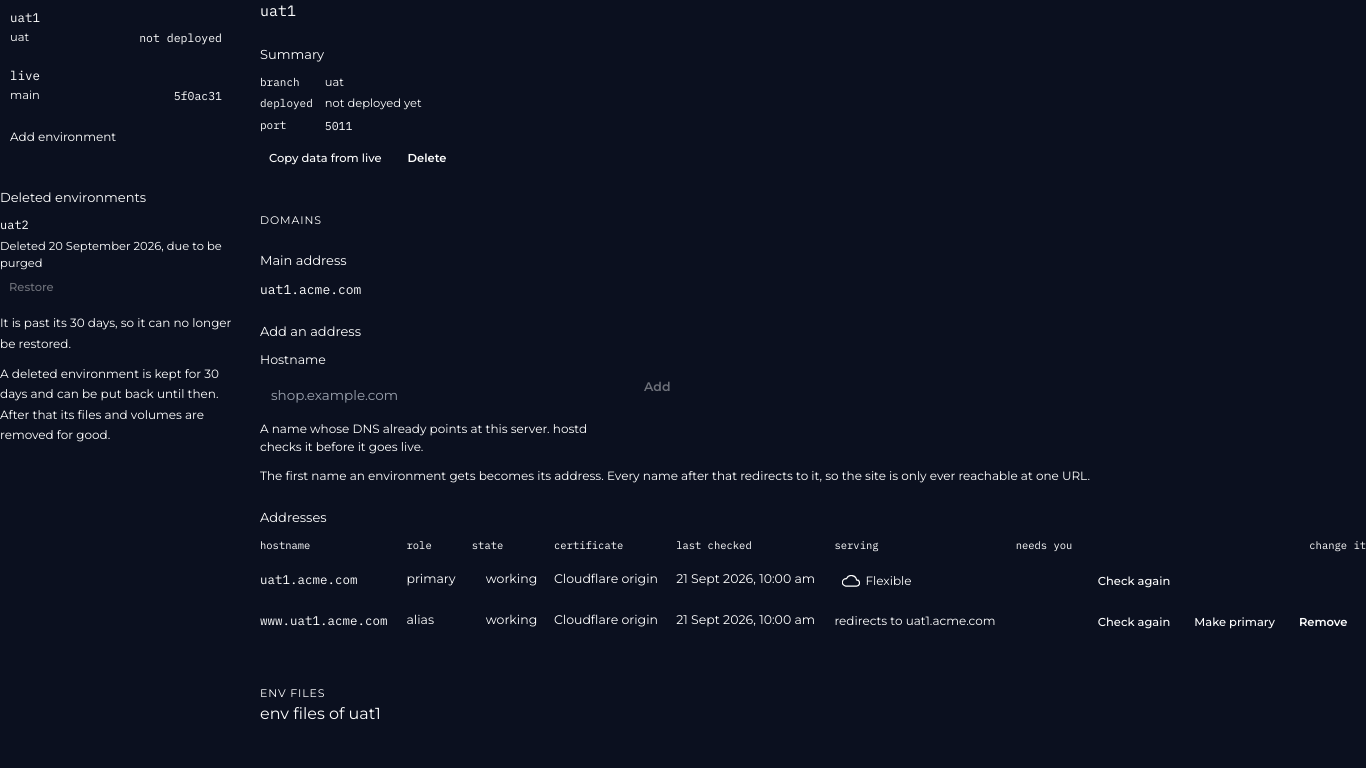
Test: the detail, for the operator › does not carry one environment's domain row state onto the next one shown
Click the 1st button "Check again". click: (1134, 581)
box: [1089,570,1179,593]
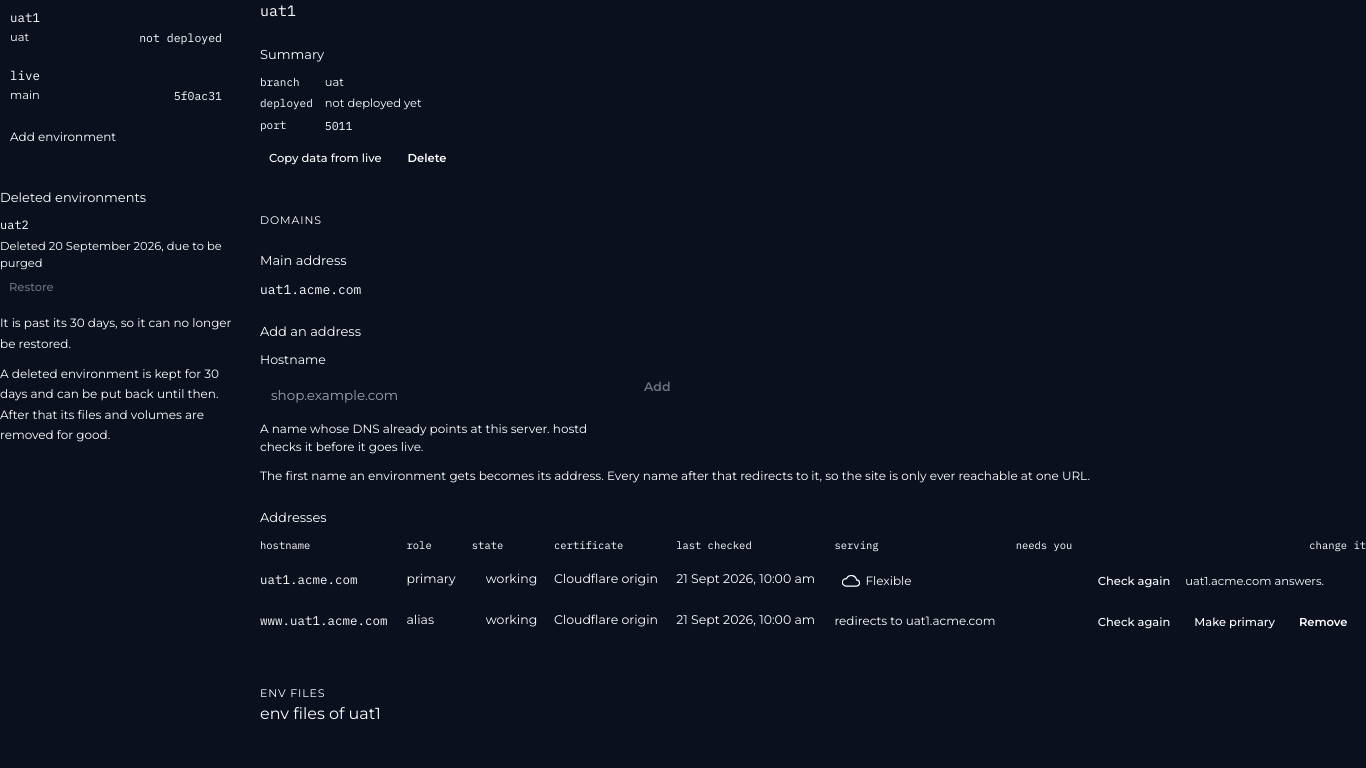
Result: the text "uat1.acme.com answers." is shown at [1185,573,1324,590]
Click the button "Remove". click: (1323, 623)
box: [1290,611,1356,634]
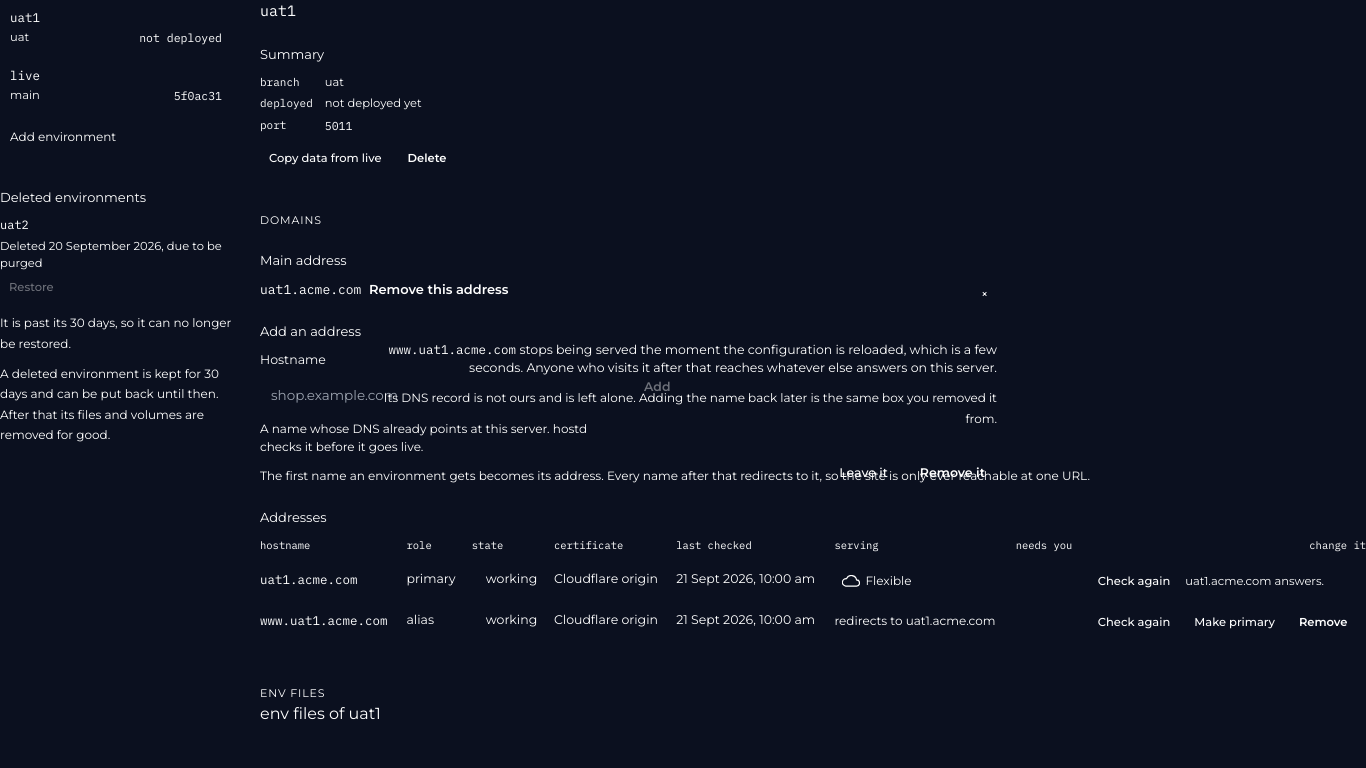
Result: the dialog "Remove this address" is shown at [353,266,1013,502]
